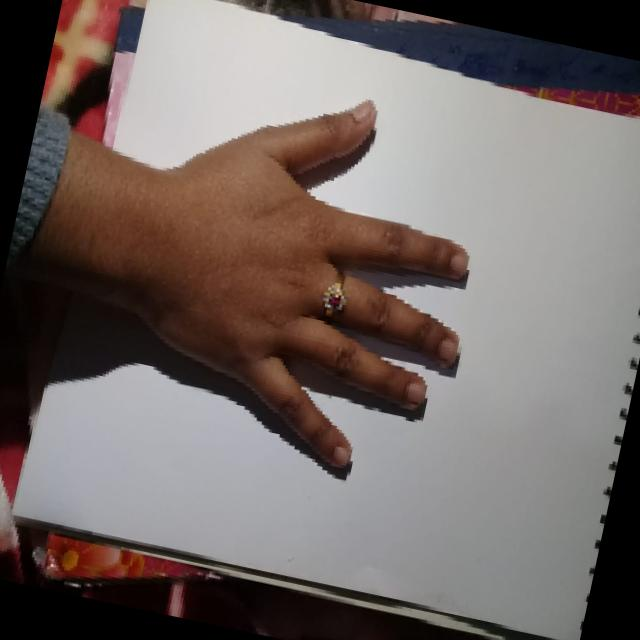Nail: (347, 100, 373, 121), (435, 337, 457, 360), (404, 381, 424, 403), (331, 446, 350, 466), (449, 253, 467, 273)
